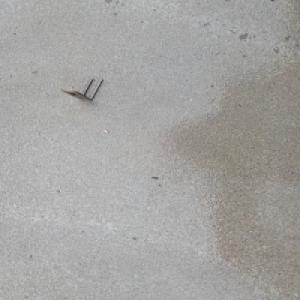MetalPart: (59, 76, 104, 101)
